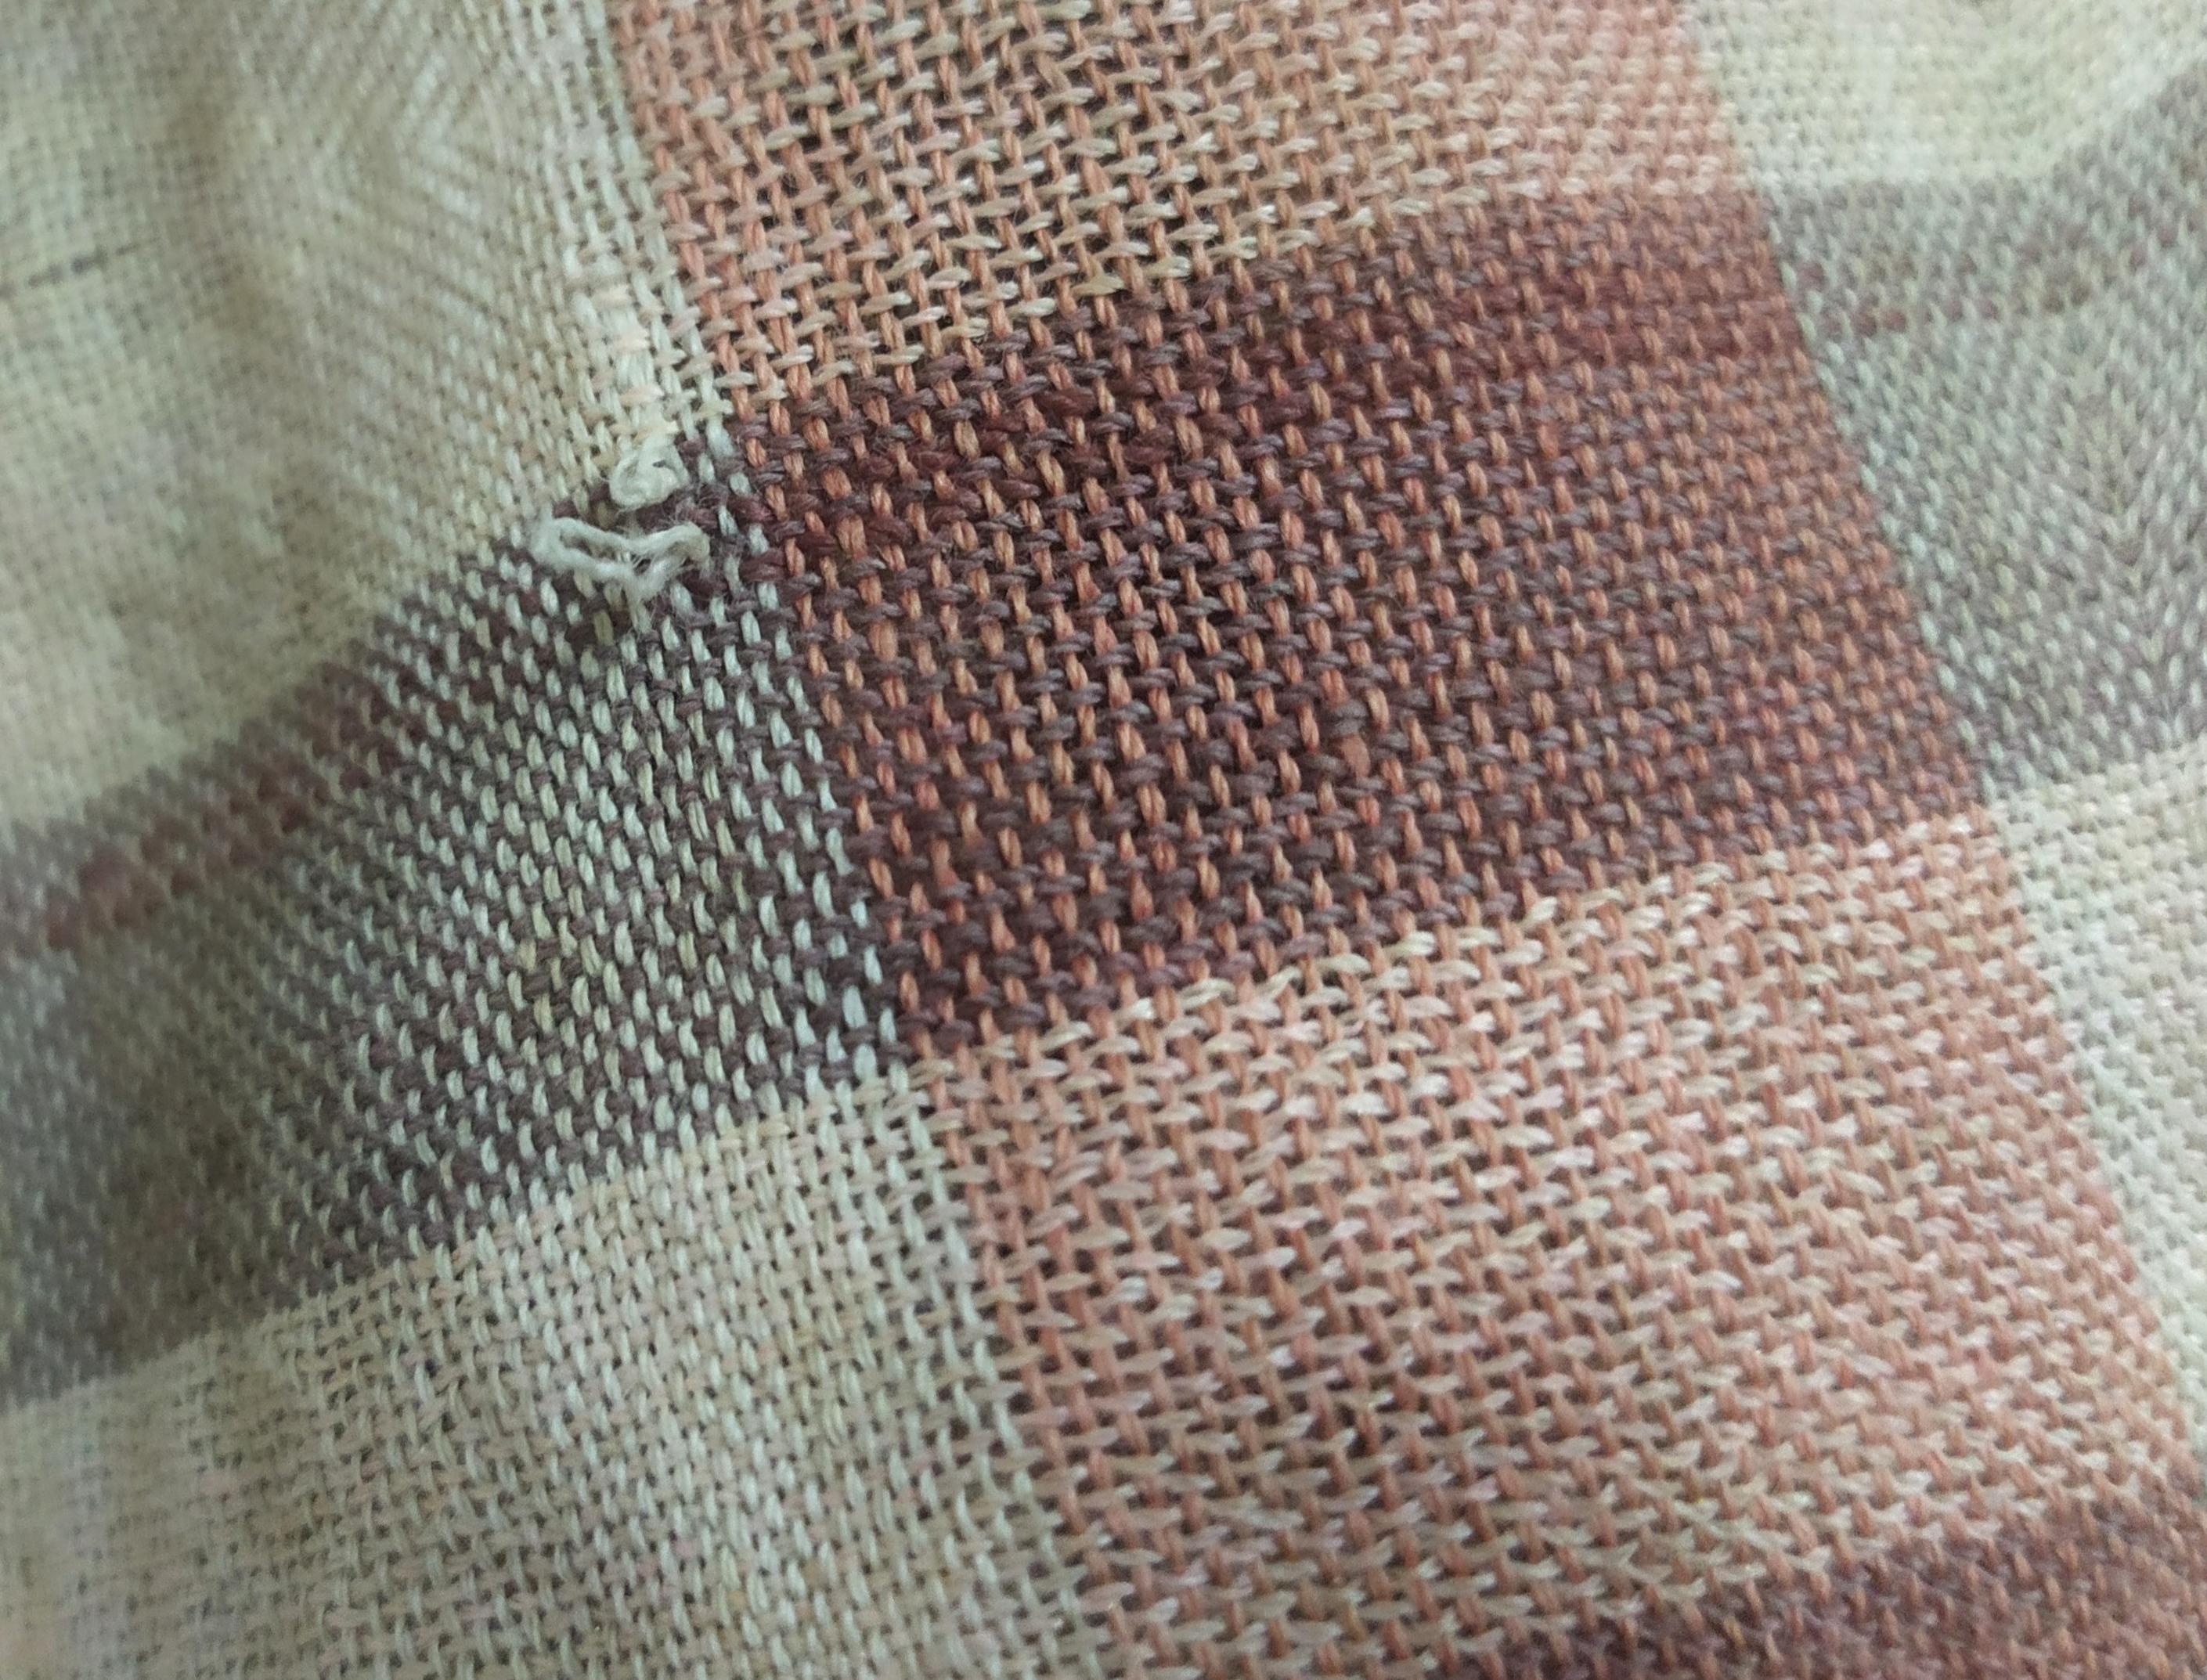snag: (522, 416, 725, 642)
